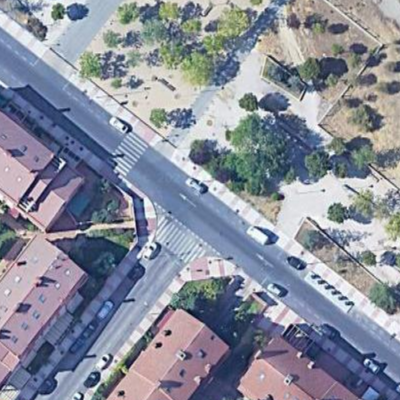tree: (214, 10, 251, 43), (305, 148, 336, 183), (183, 49, 212, 86), (349, 101, 378, 136), (188, 138, 218, 171), (356, 184, 378, 225), (351, 143, 382, 171), (158, 39, 184, 72), (177, 287, 205, 315), (201, 277, 230, 304), (76, 53, 102, 82), (246, 169, 270, 199), (148, 104, 174, 131), (233, 122, 261, 147), (90, 250, 116, 276), (327, 199, 351, 226), (230, 152, 254, 178), (263, 141, 285, 169), (117, 2, 140, 25), (160, 3, 184, 25), (102, 27, 124, 50), (300, 60, 323, 82), (360, 248, 380, 271), (239, 92, 259, 114), (50, 3, 68, 23)
